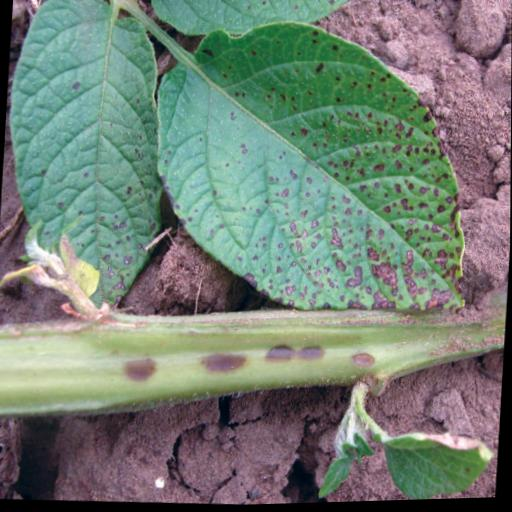Early Blight: (142, 5, 488, 344), (0, 0, 182, 320)
